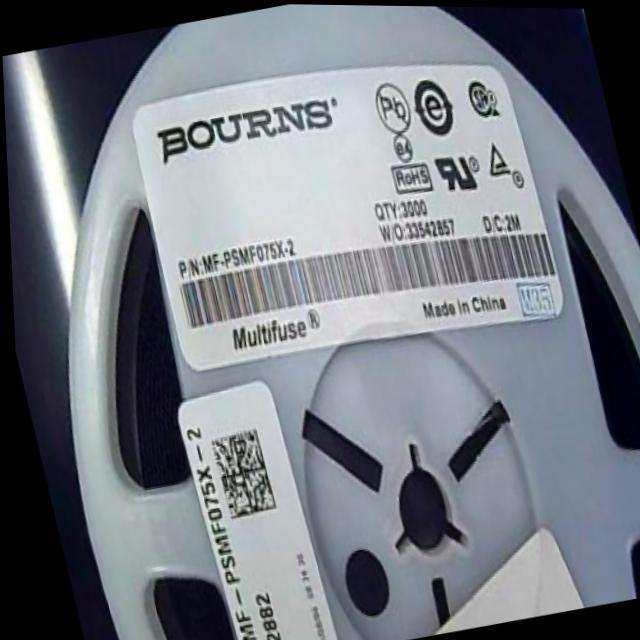datamatrix: (206, 426, 276, 520)
